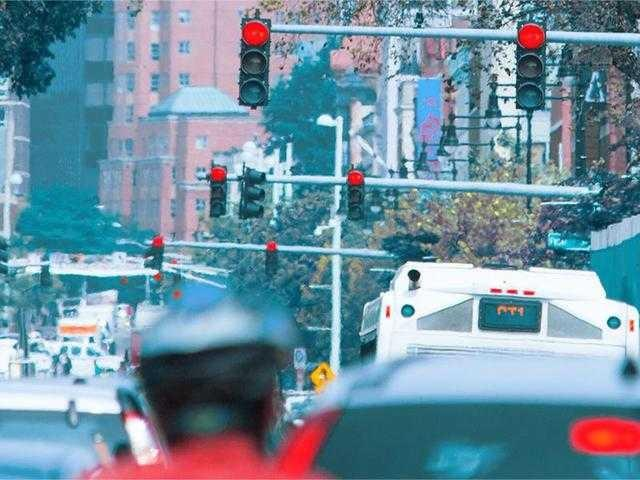red: (240, 15, 272, 111), (516, 16, 547, 111), (207, 163, 228, 219), (516, 12, 546, 50), (347, 169, 367, 220), (242, 19, 269, 49), (151, 232, 166, 278), (265, 239, 278, 282)
